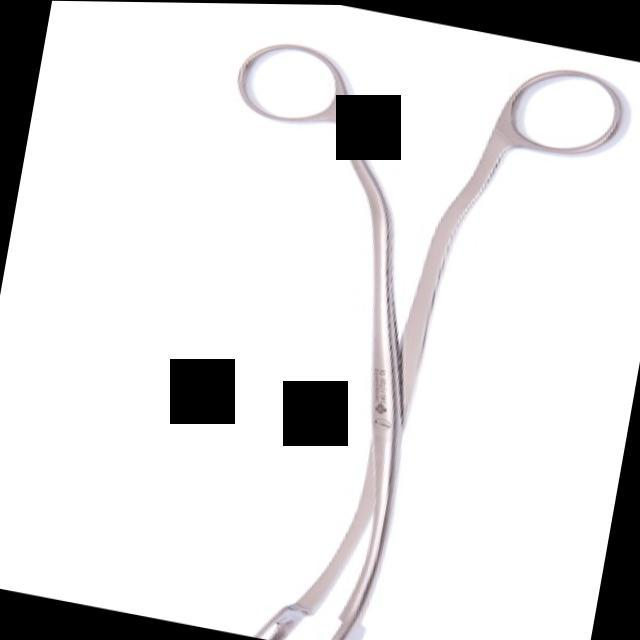Desjardin Forceps: (128, 1, 640, 640)
